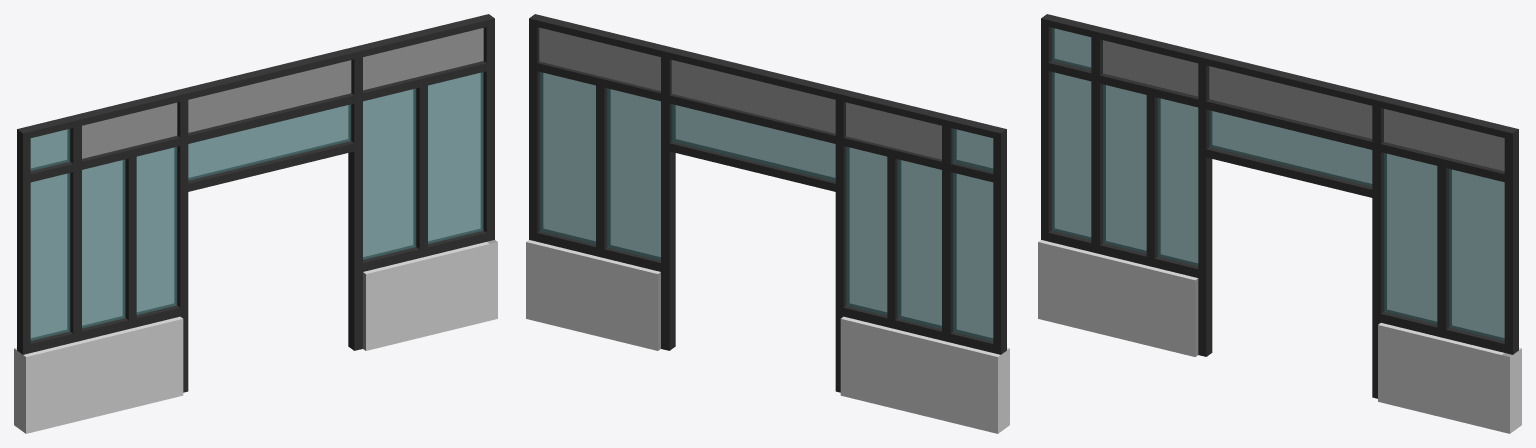
Rendered from Kantine deur opening.fbx.
3 renders of one model, left to right at view 1: azimuth 30°, elevation 25°; view 2: azimuth 150°, elevation 25°; view 3: azimuth 330°, elevation 25°, orthographic.
Visible parts, largest first — view 1: pPlane20; view 2: pPlane20; view 3: pPlane20.
Part boxes in pixels (bbox=[...]): pPlane20: bbox=[14, 14, 497, 433]; pPlane20: bbox=[526, 14, 1009, 433]; pPlane20: bbox=[1038, 14, 1521, 433].
Size of the model in its own units: 37.22 by 22.48 by 1.64.
